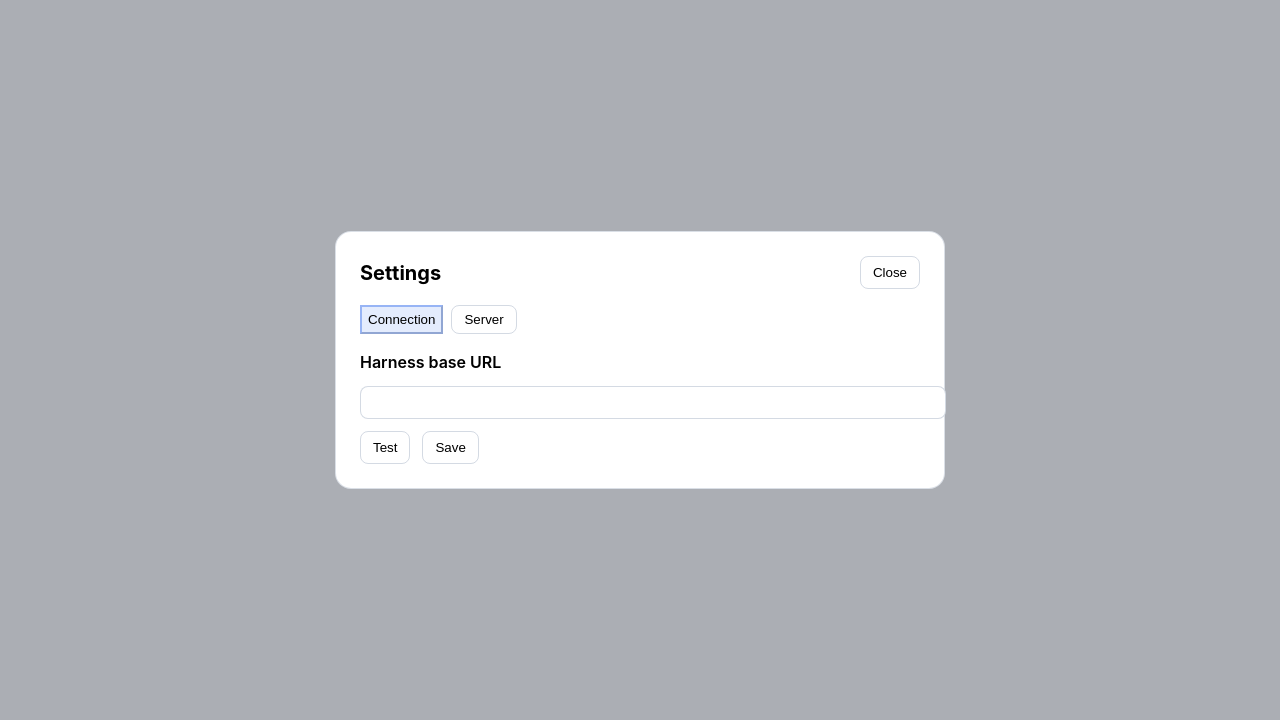
SettingsDialog › shows a connection error when the health check fails
The width and height of the screenshot is (1280, 720).
Click the button with test id "test-connection-settings". click: [385, 447]
box: [360,431,410,464]
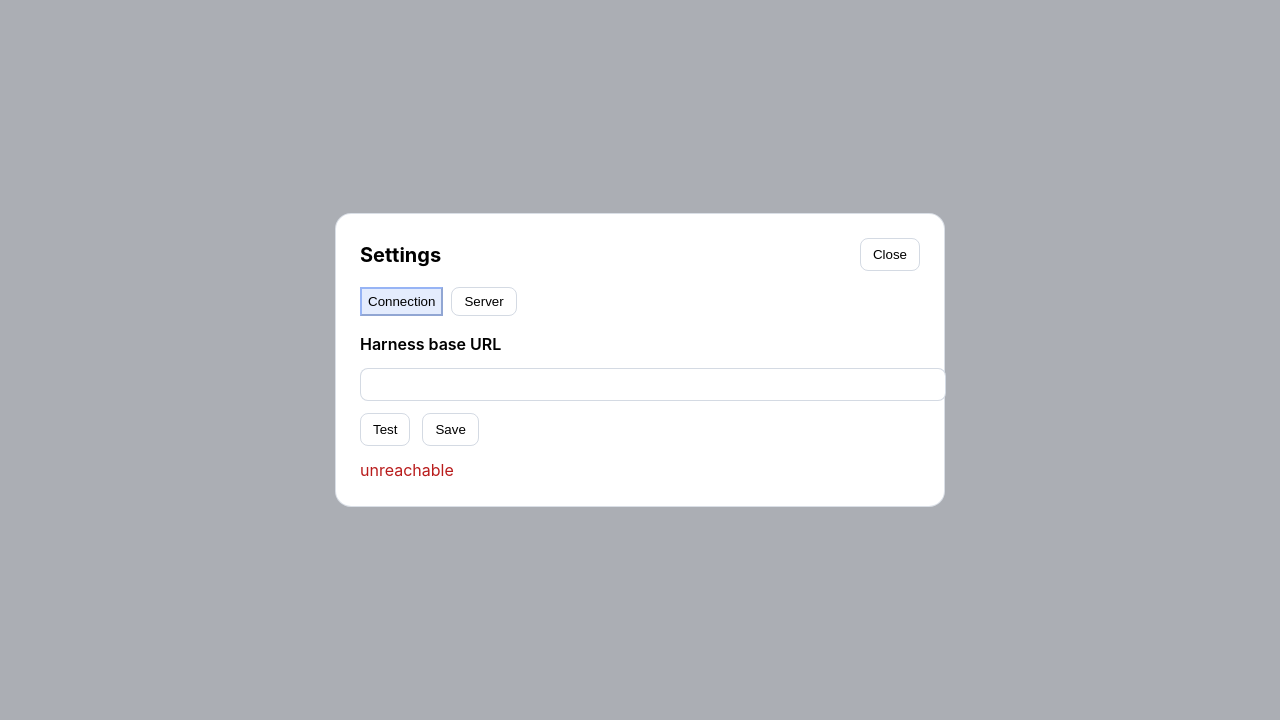
Now the text with test id "connection-error" reads "unreachable", box [360,460,454,480]
